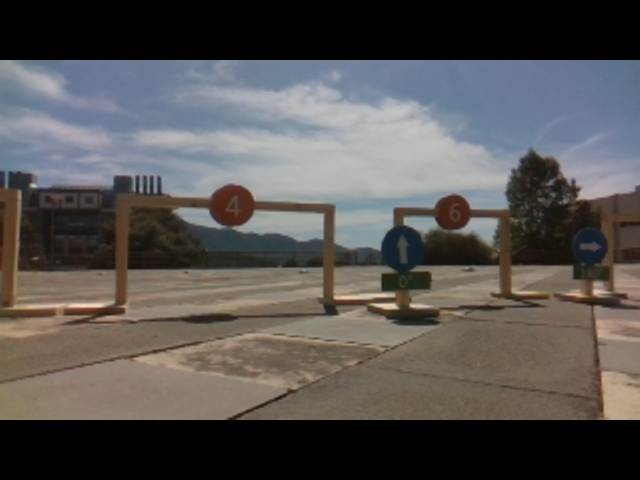0_degree: (381, 272, 432, 291)
180_degree: (574, 266, 611, 282)
arrow_right: (572, 226, 610, 263)
arrow_up: (379, 226, 426, 272)
checkpoint_foot: (63, 294, 129, 318), (1, 297, 56, 321), (314, 286, 364, 307), (497, 283, 553, 301)
checkpoint_side: (113, 190, 136, 303), (316, 195, 340, 297), (495, 190, 519, 292)
checkpoint_signal: (113, 188, 343, 216), (392, 204, 519, 221)
four: (205, 180, 257, 229)
six: (437, 192, 472, 230)
